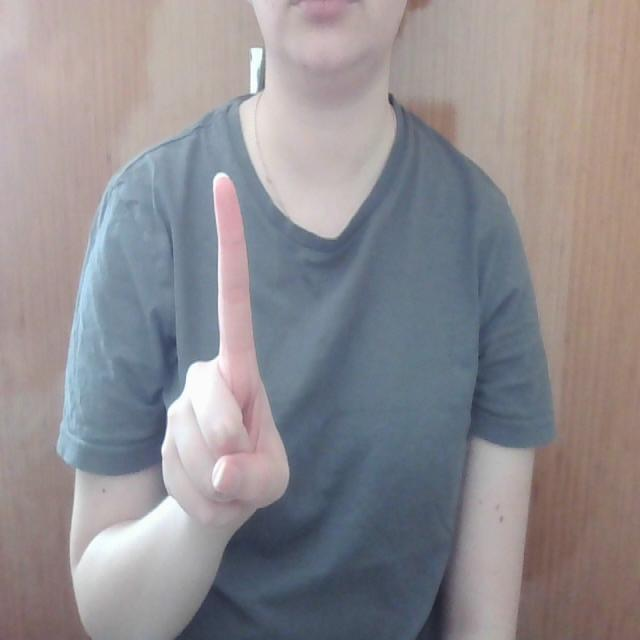Hayir: (147, 147, 304, 549)
